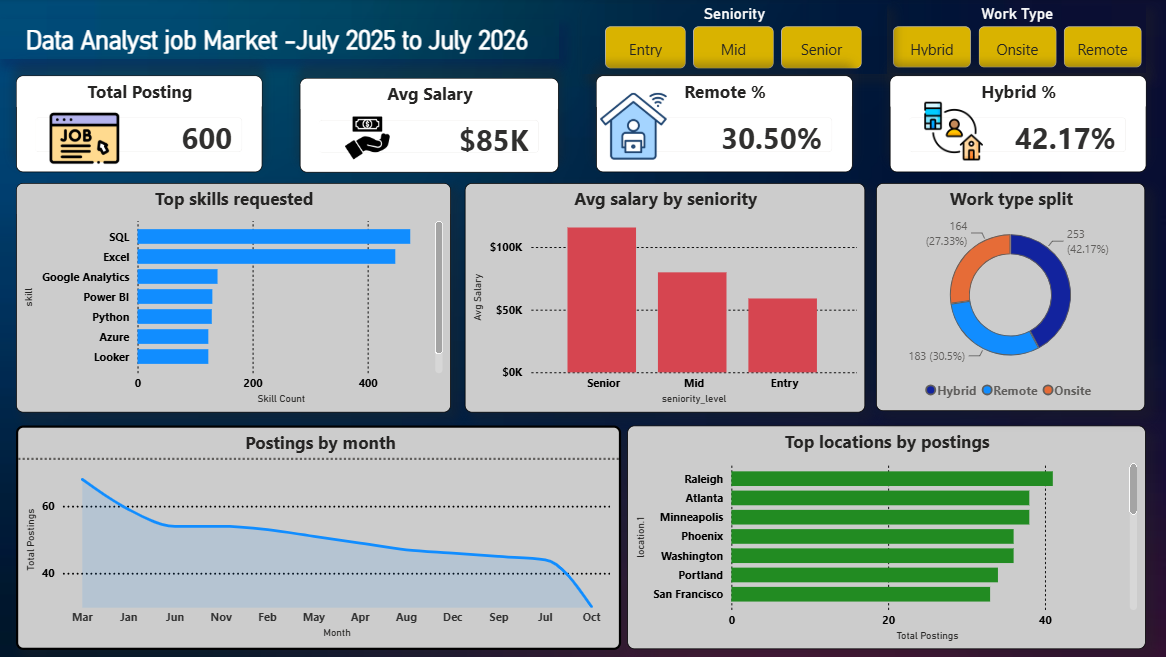

The page's visual inventory and layout, read from the dashboard file:
{"tool":"powerbi","page":{"name":"Page 1","canvas":[1280,720],"ordinal":0},"visuals":[{"type":"cardVisual","title":"Total Posting","fields":{"Data":["linkedin_data_analyst_jobs.Total Postings"]},"box":[22.3,84.9,268.6,105.8],"z":0},{"type":"clusteredBarChart","title":"Top skills requested","fields":{"Y":["linkedin_data_analyst_jobs.Skill Count"],"Category":["linkedin_job_skills_long.skill"]},"box":[22.3,201.8,474.5,250.5],"z":1000},{"type":"clusteredColumnChart","title":"Avg salary by seniority","fields":{"Category":["linkedin_data_analyst_jobs.seniority_level"],"Y":["linkedin_data_analyst_jobs.Avg Salary"]},"box":[510.7,201.8,437,250.5],"z":2000},{"type":"lineChart","title":"Postings by month","fields":{"Category":["linkedin_data_analyst_jobs.Month_Year"],"Y":["linkedin_data_analyst_jobs.Total Postings"]},"box":[22.3,466.2,659.6,244.9],"z":3000},{"type":"clusteredBarChart","title":" Top locations by postings","fields":{"Category":["linkedin_data_analyst_jobs.location.1","linkedin_data_analyst_jobs.location.2"],"Y":["linkedin_data_analyst_jobs.Total Postings"]},"box":[688.9,466.6,565.4,244.3],"z":4000},{"type":"donutChart","title":"Work type split","fields":{"Y":["linkedin_data_analyst_jobs.Total Postings"],"Category":["linkedin_data_analyst_jobs.remote_type"]},"box":[960.2,201.8,293.6,249.1],"z":5000},{"type":"advancedSlicerVisual","title":"Work Type","fields":{"Values":["linkedin_data_analyst_jobs.remote_type"]},"box":[974.1,7,281.1,75.1],"z":6000},{"type":"advancedSlicerVisual","title":"Seniority","fields":{"Values":["linkedin_data_analyst_jobs.seniority_level"]},"box":[639.5,6.9,332.1,75.8],"z":7000},{"type":"textbox","box":[0,23.5,613.2,42.8],"z":8000},{"type":"cardVisual","title":"Avg Salary","fields":{"Data":["linkedin_data_analyst_jobs.Avg Salary"]},"box":[331.2,87.7,282.5,103],"z":9000},{"type":"cardVisual","title":"Remote %","fields":{"Data":["linkedin_data_analyst_jobs.Remote %"]},"box":[654.1,84.9,279.7,105.8],"z":10000},{"type":"cardVisual","title":"Hybrid %","fields":{"Data":["linkedin_data_analyst_jobs.Hybrid %"]},"box":[975.5,84.9,279.7,105.8],"z":11000},{"type":"image","box":[370.2,128,71,48.7],"z":11001},{"type":"image","box":[654.1,101.6,82.1,75.1],"z":11002},{"type":"image","box":[1002,112.7,84.9,64],"z":11003},{"type":"image","box":[50.1,114.1,91.8,76.5],"z":11004}]}

Visuals, with their boxes in screenshot pixels (x1, y1, x2, y2), scaled from the page's 1280x720 canvas onto the 1166x657 screenshot:
"Total Posting" cardVisual: left=20, top=77, right=265, bottom=174
"Top skills requested" clusteredBarChart: left=20, top=184, right=453, bottom=413
"Avg salary by seniority" clusteredColumnChart: left=465, top=184, right=863, bottom=413
"Postings by month" lineChart: left=20, top=425, right=621, bottom=649
" Top locations by postings" clusteredBarChart: left=628, top=426, right=1143, bottom=649
"Work type split" donutChart: left=875, top=184, right=1142, bottom=411
"Work Type" advancedSlicerVisual: left=887, top=6, right=1143, bottom=75
"Seniority" advancedSlicerVisual: left=583, top=6, right=885, bottom=75
textbox: left=0, top=21, right=559, bottom=60
"Avg Salary" cardVisual: left=302, top=80, right=559, bottom=174
"Remote %" cardVisual: left=596, top=77, right=851, bottom=174
"Hybrid %" cardVisual: left=889, top=77, right=1143, bottom=174
image: left=337, top=117, right=402, bottom=161
image: left=596, top=93, right=671, bottom=161
image: left=913, top=103, right=990, bottom=161
image: left=46, top=104, right=129, bottom=174
